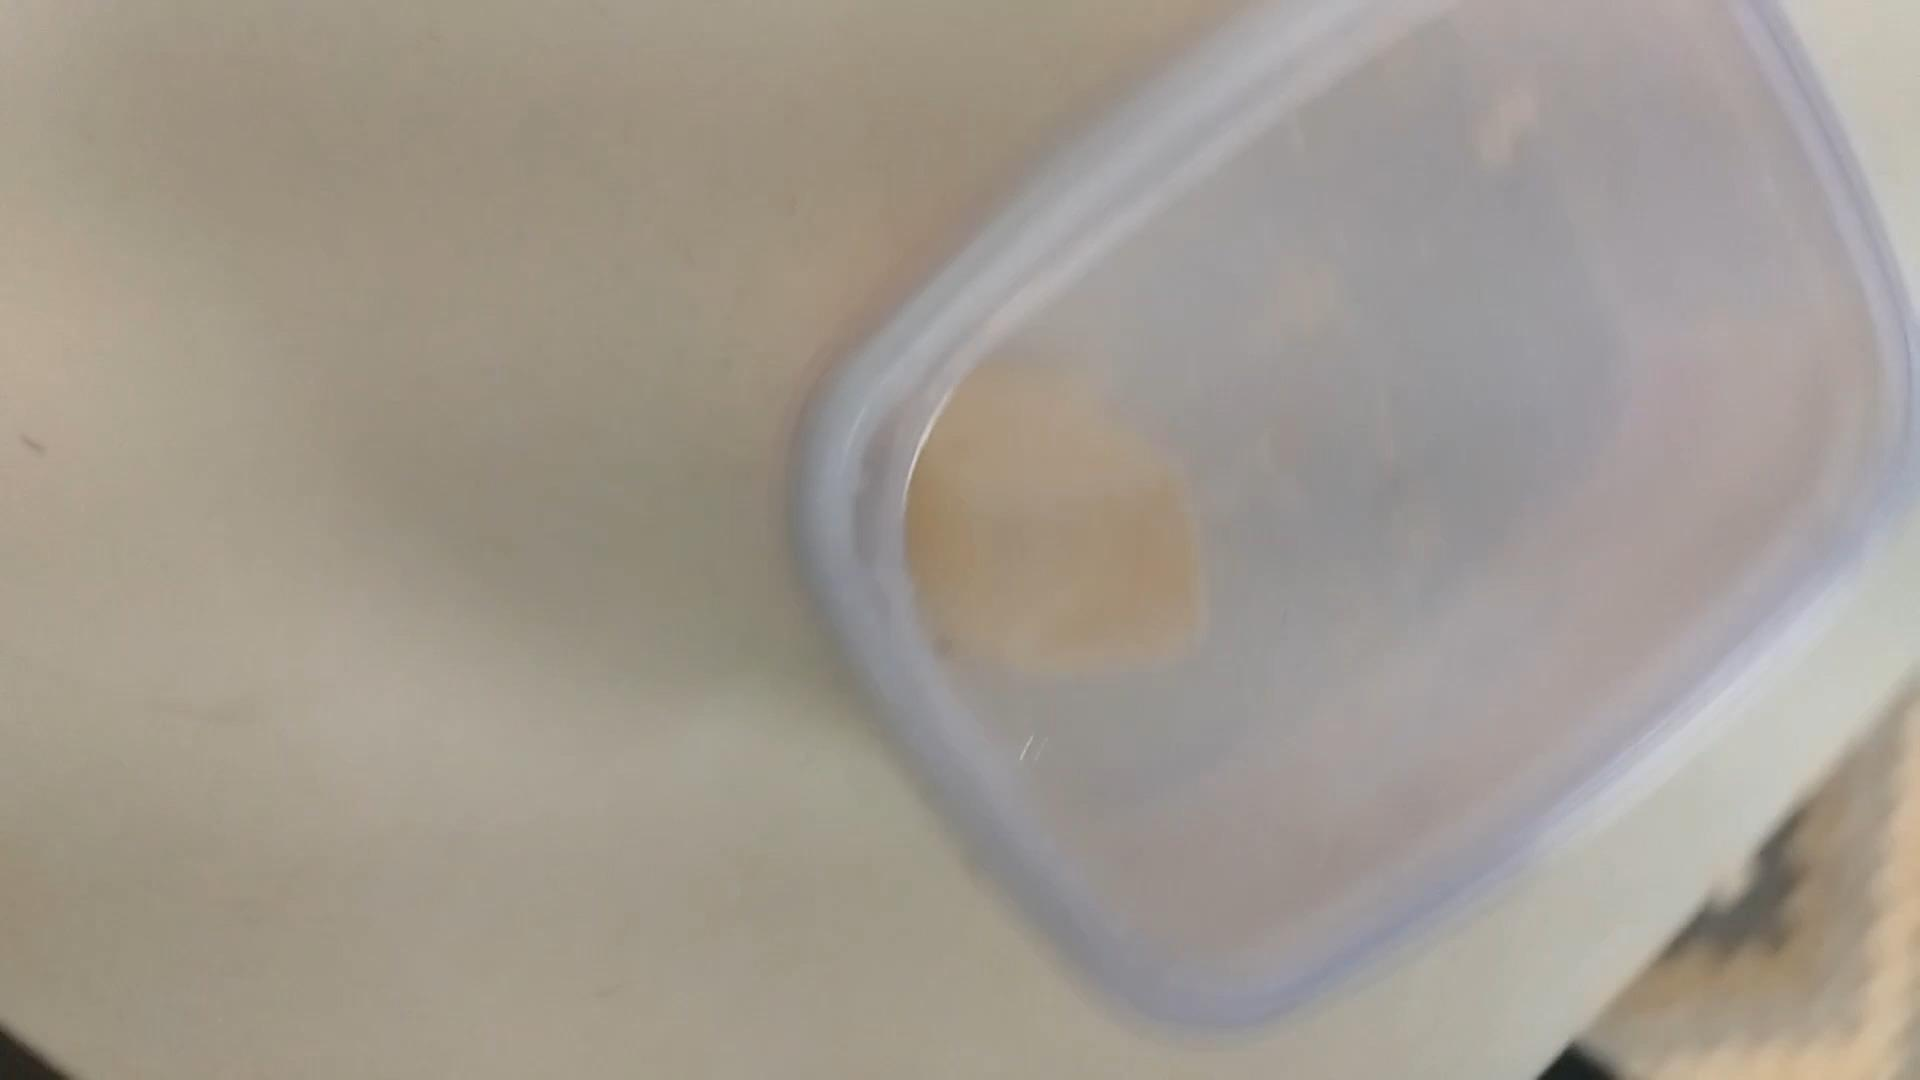butter: (785, 0, 1911, 1039)
